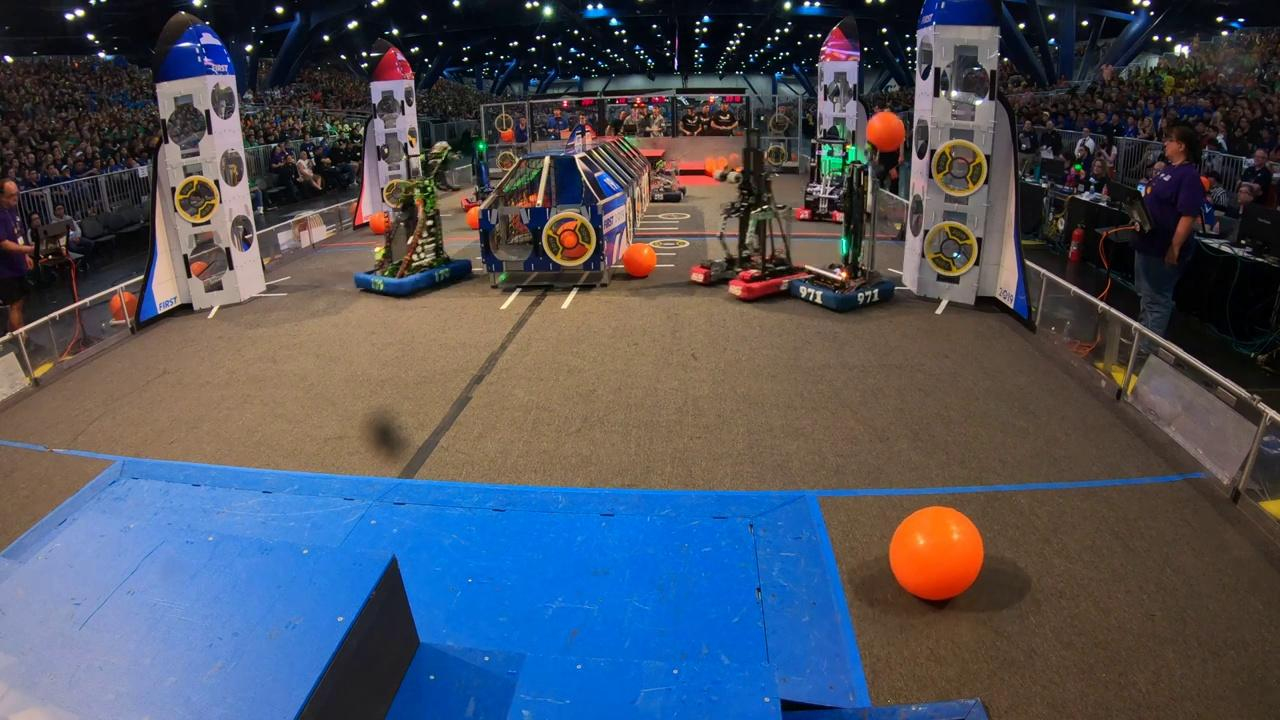robot: (686, 123, 808, 307), (793, 148, 898, 316), (353, 180, 478, 302), (789, 137, 859, 227), (643, 157, 687, 203)
